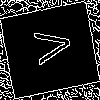V: (25, 25, 73, 68)
